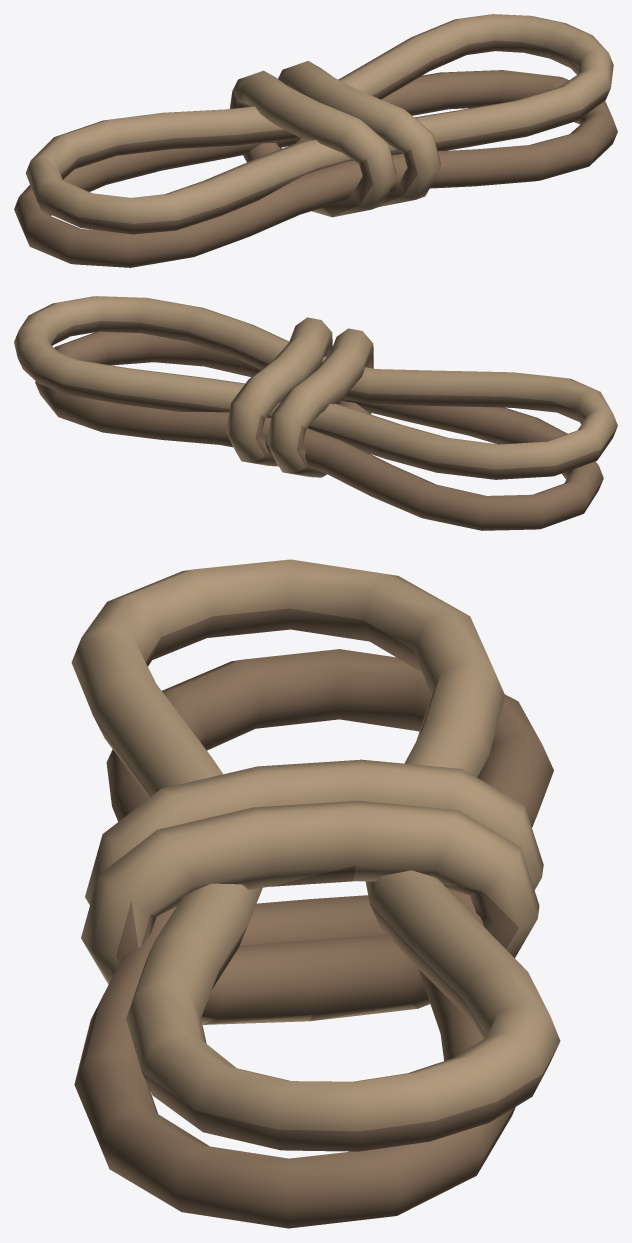
Rendered from itch_kaykit_rpg_tools_rope_bundle_a.glb.
The picture shows the model from 3 angles, top to bottom: view 1: azimuth 30°, elevation 25°; view 2: azimuth 150°, elevation 25°; view 3: azimuth 270°, elevation 25°; orthographic projection. The views are drawn at different scales.
Visible parts, largest first — view 1: rope_bundle_A; view 2: rope_bundle_A; view 3: rope_bundle_A.
Boxes of the visible parts, left/top/right/bottom form: rope_bundle_A: left=14, top=14, right=617, bottom=267; rope_bundle_A: left=14, top=296, right=617, bottom=530; rope_bundle_A: left=71, top=559, right=560, bottom=1228.
Bounding box in the file's own units: 1.18 × 0.2131 × 0.4458.
